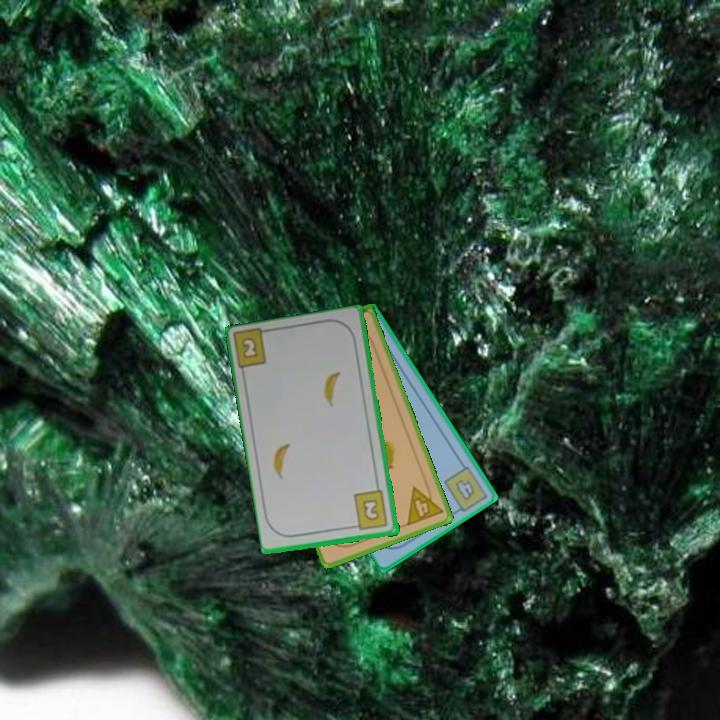2b: (349, 487, 391, 533), (238, 333, 261, 362)
4b: (440, 462, 488, 517)
4p: (403, 479, 446, 529)
